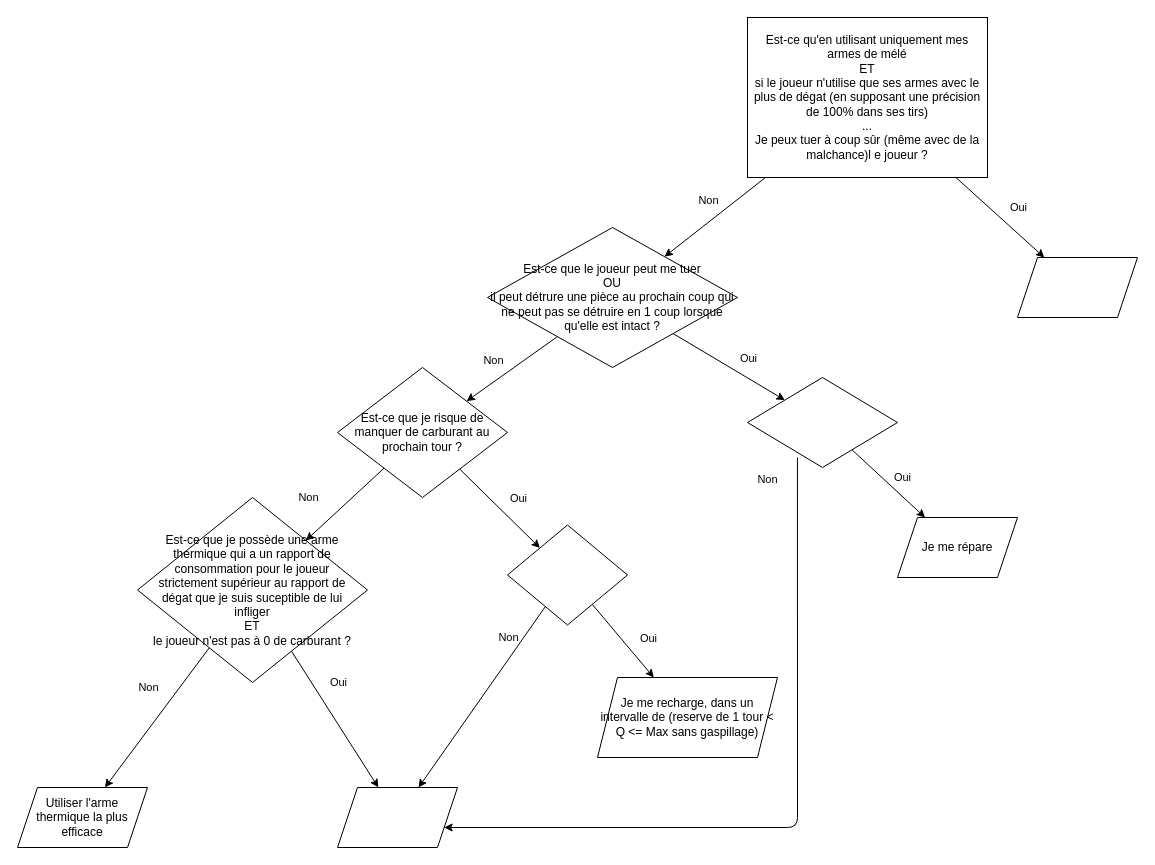
This 1155x865 diagram has some shape labels left out. Here are the shapes that lost their labels. From the top down, the centre of each, then its label:
At [1077,287]: "Utiliser l'arme de mélée la plus puissance".
At [822,422]: "Est-ce que je peux me réparer ?".
At [567,574]: "Est-ce que je peux me rehcarger en carburant ?".
At [397,817]: "Utiliser l'arme ayant le meilleur score dégat*précision".
